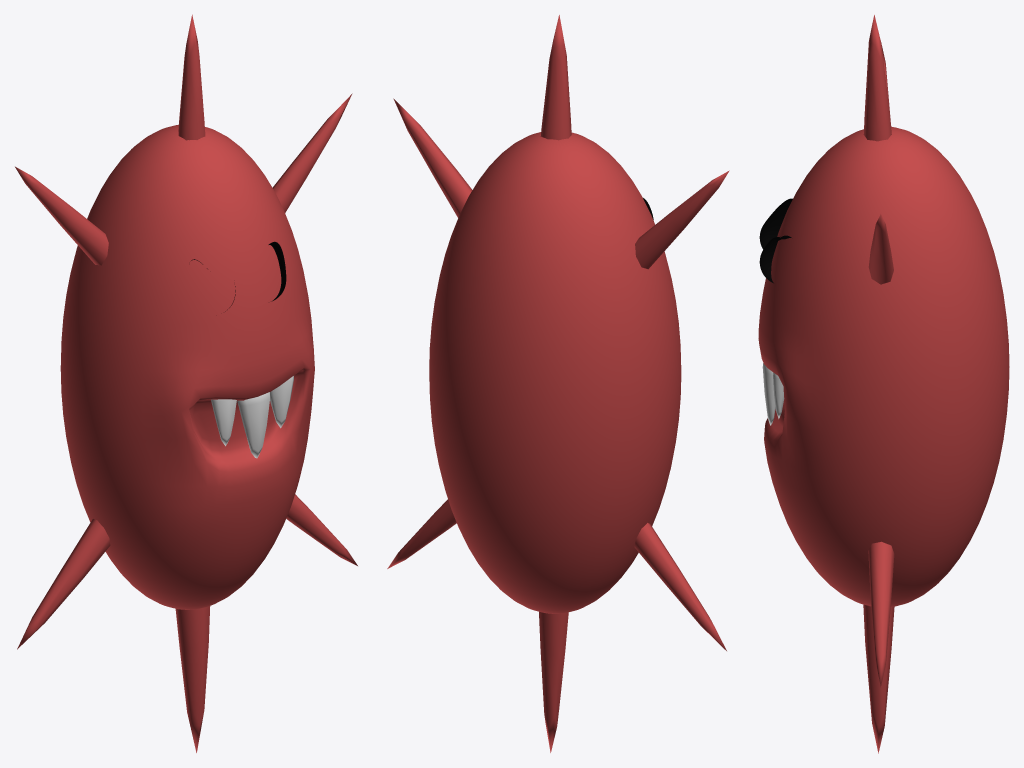
File: Flankton.fbx
The picture shows the model from 3 angles, left to right: view 1: azimuth 30°, elevation 25°; view 2: azimuth 150°, elevation 25°; view 3: azimuth 270°, elevation 25°; orthographic projection.
Visible parts, largest first — view 1: Flankton; view 2: Flankton; view 3: Flankton.
Part boxes in pixels (x1,y1,x2,y2): Flankton: (15,14,357,752); Flankton: (387,15,729,752); Flankton: (758,15,1009,753).
Bounding box in the file's own units: 2913 × 6011 × 1856.
